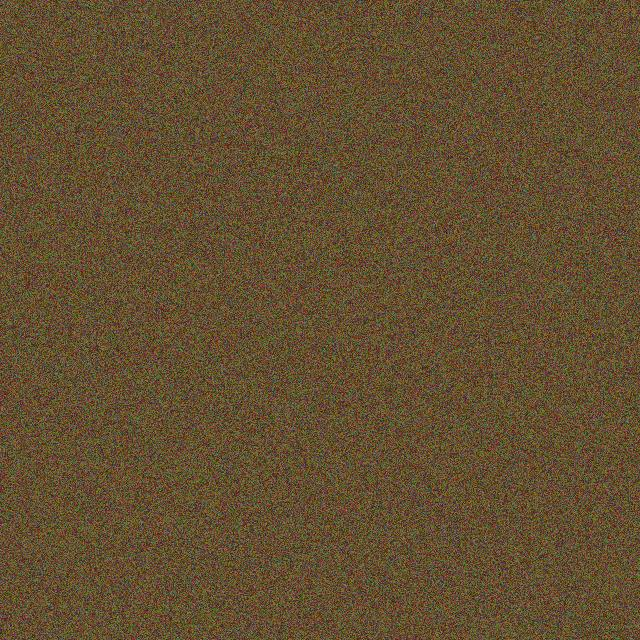ghost_net: (473, 115, 534, 212)
